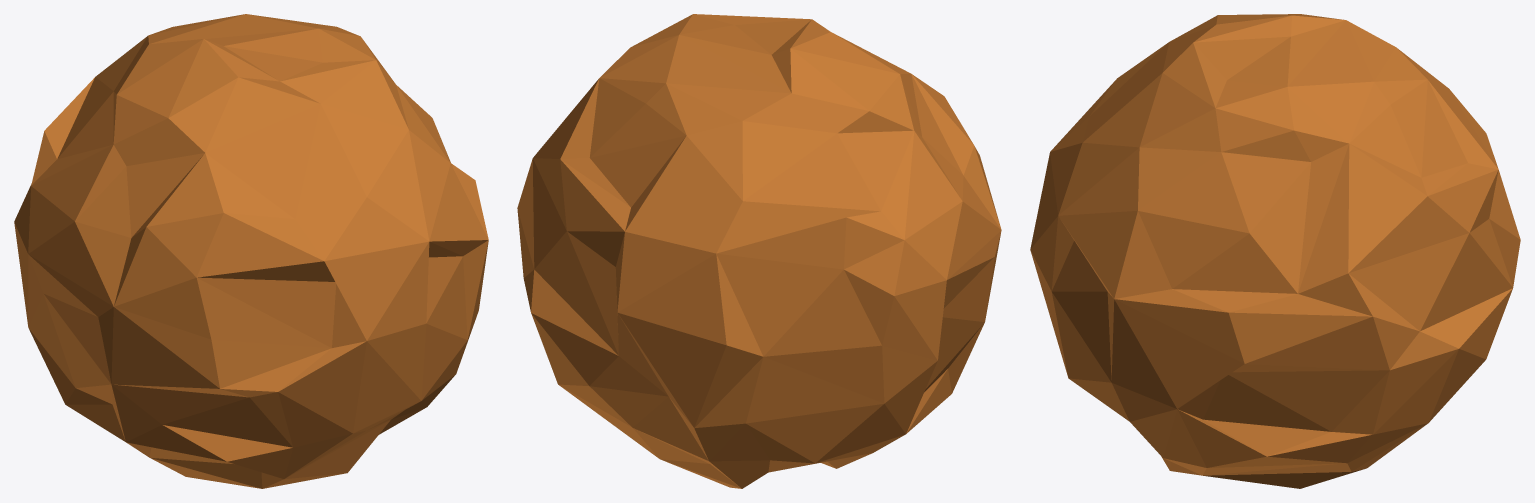
Rendered from dry_planet7.fbx.
3 renders of one model, left to right at view 1: azimuth 30°, elevation 25°; view 2: azimuth 150°, elevation 25°; view 3: azimuth 270°, elevation 25°, orthographic.
Visible parts, largest first — view 1: dry_planet7; view 2: dry_planet7; view 3: dry_planet7.
Boxes of the visible parts, x1,y1,x2,y2 form: dry_planet7: [14, 14, 488, 488]; dry_planet7: [517, 14, 1001, 488]; dry_planet7: [1030, 14, 1520, 488].
Bounding box in the file's own units: 199 × 198 × 204.
